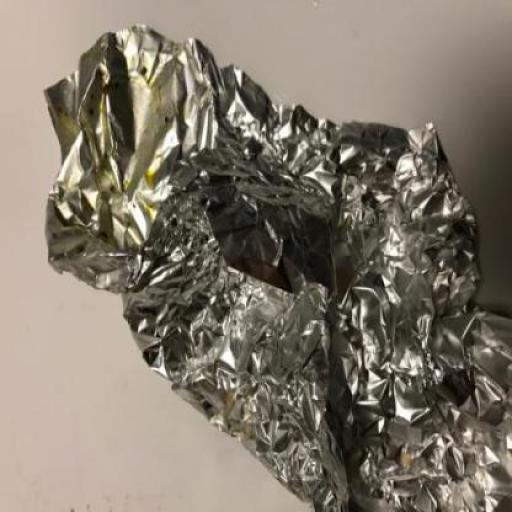metal: (40, 24, 510, 510)
